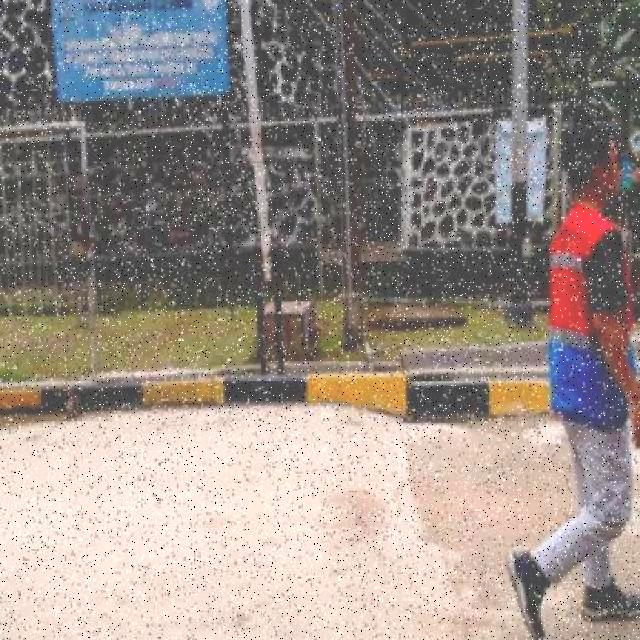Boots: (501, 548, 557, 638), (574, 570, 638, 624)
